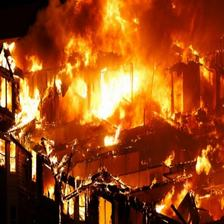fire: (2, 18, 224, 152), (38, 1, 171, 52), (150, 147, 216, 190), (146, 185, 206, 220)
